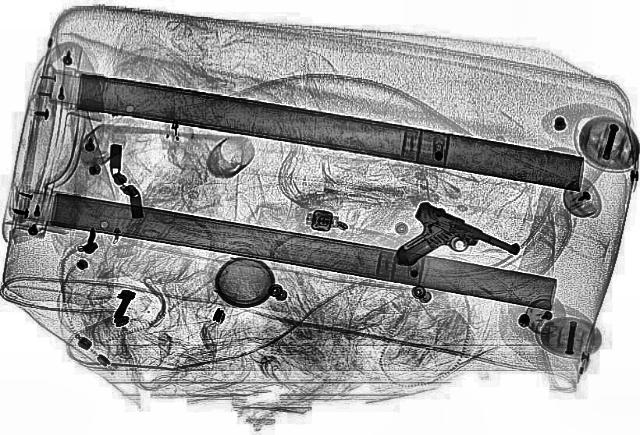Gun: (369, 200, 528, 294)
